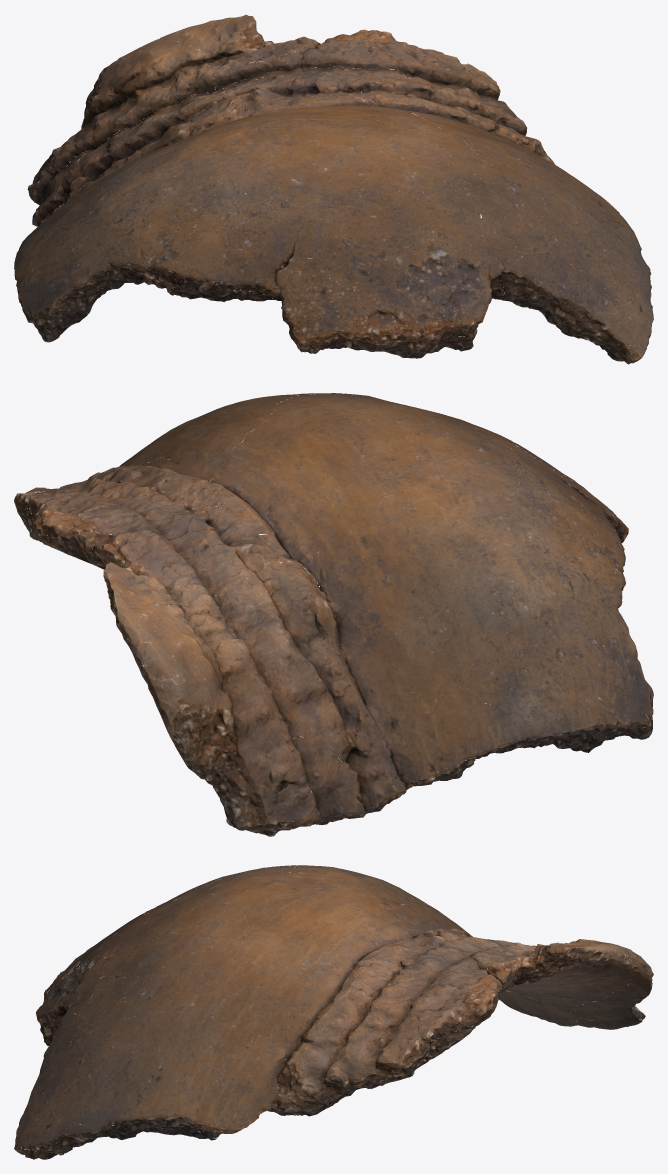
Rendered from Objeto_13_4k-b.glb.
3 views of the same model, one above another, from view 1: azimuth 30°, elevation 25°; view 2: azimuth 150°, elevation 25°; view 3: azimuth 270°, elevation 25° (orthographic). The views are drawn at different scales.
Visible parts, largest first — view 1: Mesh_0; view 2: Mesh_0; view 3: Mesh_0.
Part boxes in pixels (<box>): Mesh_0: <box>14,14,653,364</box>; Mesh_0: <box>14,393,653,836</box>; Mesh_0: <box>14,865,653,1159</box>.
Bounding box in the file's own units: 0.2034 × 0.0697 × 0.2274.
1 material, 1 textured.
